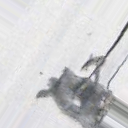crackTip: (78, 19, 128, 93)
